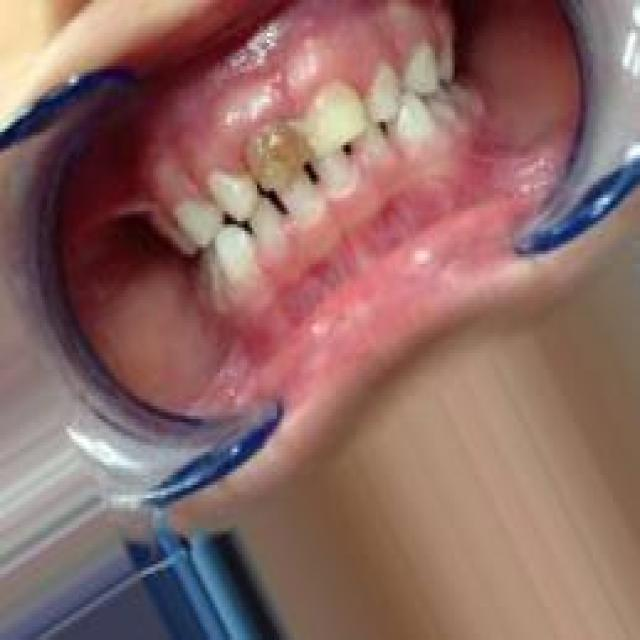caries: (243, 118, 315, 196)
